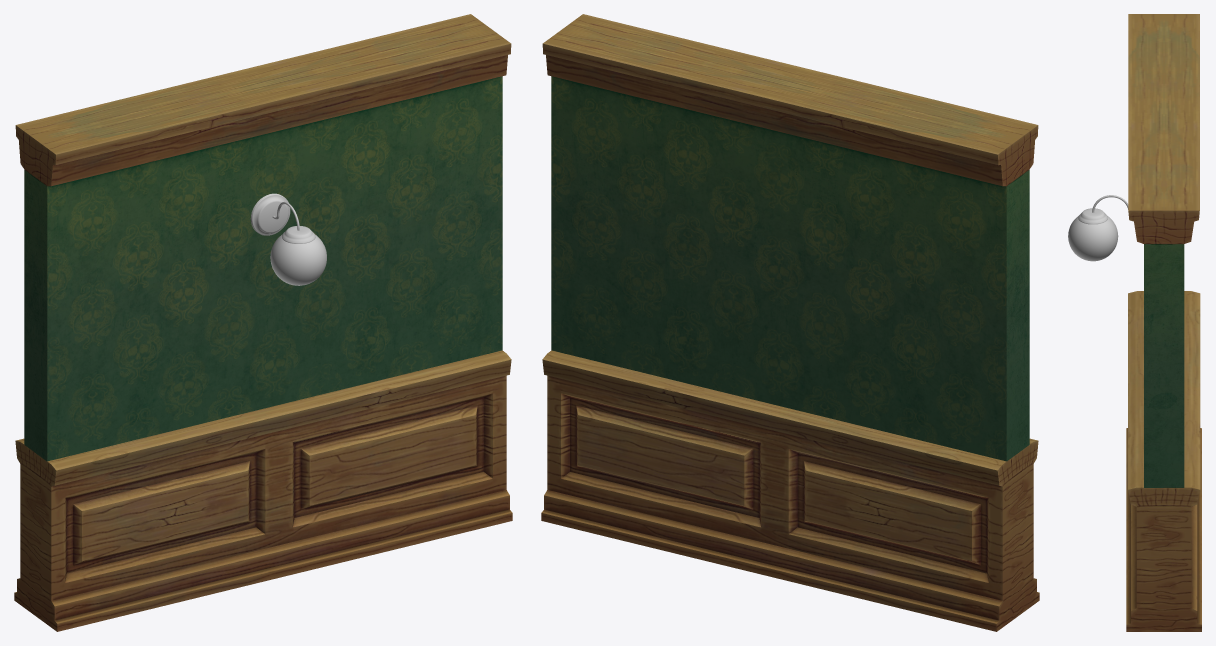
The model's file is Wall2.fbx.
3 renders of one model, left to right at view 1: azimuth 30°, elevation 25°; view 2: azimuth 150°, elevation 25°; view 3: azimuth 270°, elevation 25°, orthographic. The views are drawn at different scales.
Parts seen in each view (by area): view 1: Wall_Top_low.002, Wall_Bottom_low.002, WallLamp.001, WallLamp; view 2: Wall_Top_low.002, Wall_Bottom_low.002; view 3: Wall_Top_low.002, Wall_Bottom_low.002, WallLamp.001, WallLamp.
Part boxes in pixels (<box>): Wall_Top_low.002: <box>15,14,511,461</box>; Wall_Bottom_low.002: <box>14,350,512,631</box>; WallLamp.001: <box>270,234,326,285</box>; WallLamp: <box>250,193,315,243</box>; Wall_Top_low.002: <box>542,14,1038,461</box>; Wall_Bottom_low.002: <box>541,350,1039,631</box>; Wall_Top_low.002: <box>1128,14,1199,487</box>; Wall_Bottom_low.002: <box>1126,291,1201,631</box>; WallLamp.001: <box>1068,216,1118,261</box>; WallLamp: <box>1078,195,1128,224</box>.
Bounding box in the file's own units: 241 × 241 × 69.38.
